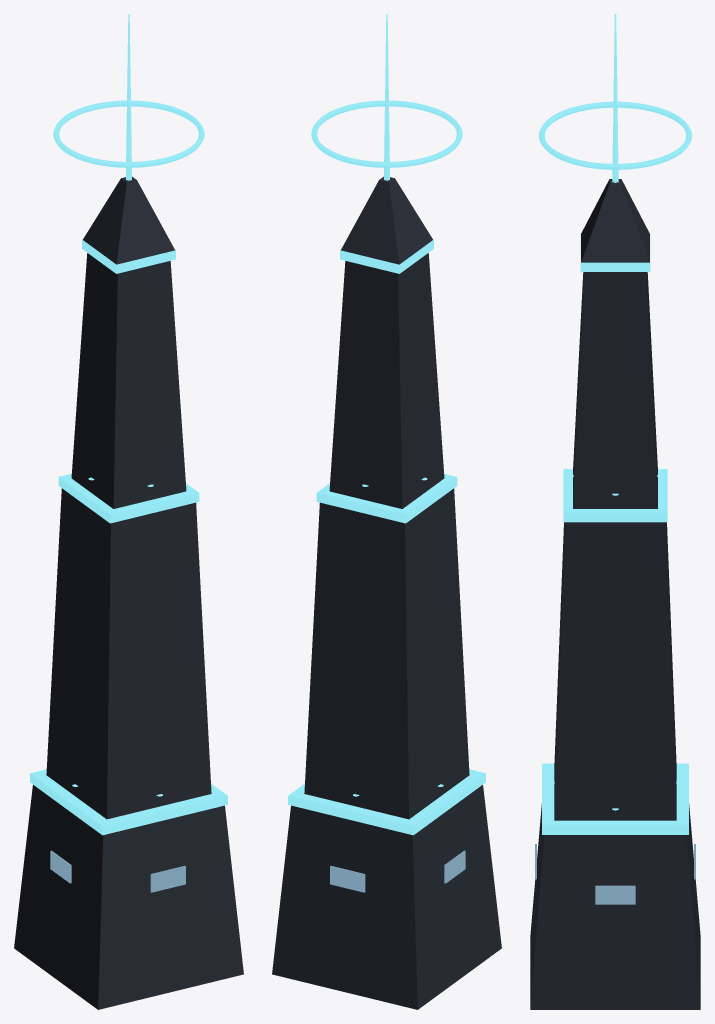
File: pylon.glb
3 views of the same model, side by side, from view 1: azimuth 30°, elevation 25°; view 2: azimuth 150°, elevation 25°; view 3: azimuth 270°, elevation 25° (orthographic).
Parts seen in each view (by area): view 1: Shell, Trim, Window; view 2: Shell, Trim, Window; view 3: Shell, Trim, Window.
Boxes of the visible parts, x1,y1,x2,y2 form: Shell: (14, 176, 243, 1009); Trim: (30, 14, 227, 835); Window: (50, 850, 185, 892); Shell: (272, 176, 501, 1009); Trim: (288, 14, 485, 835); Window: (330, 850, 465, 892); Shell: (530, 179, 700, 1009); Trim: (538, 14, 692, 834); Window: (535, 844, 695, 904).
Size of the model in its own units: 10.18 by 63.2 by 10.18.
